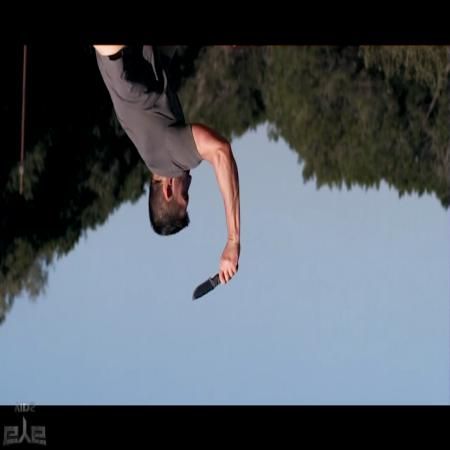long weapon: (190, 258, 240, 308)
